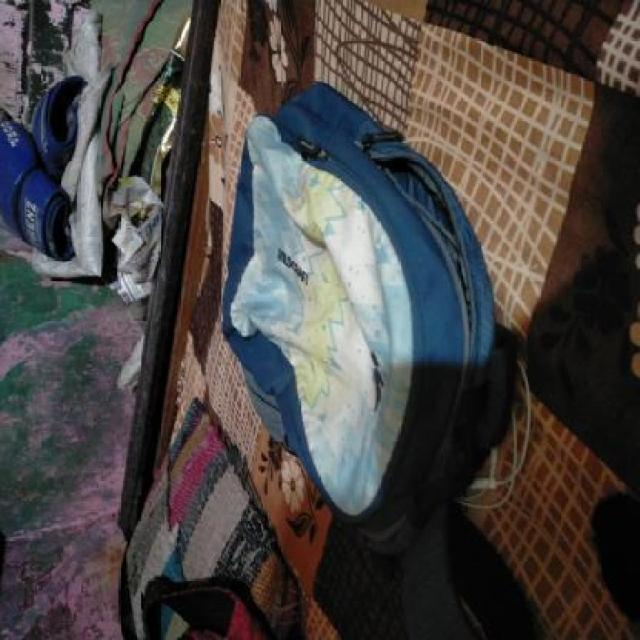backpack: (215, 80, 512, 560)
